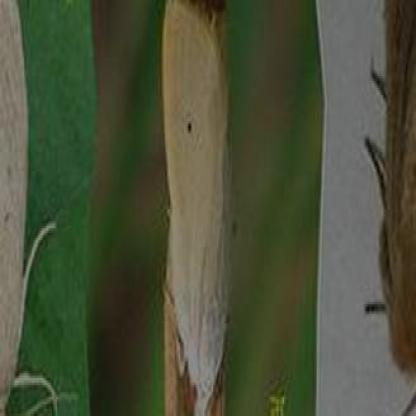stem-borer: (159, 0, 234, 416)
